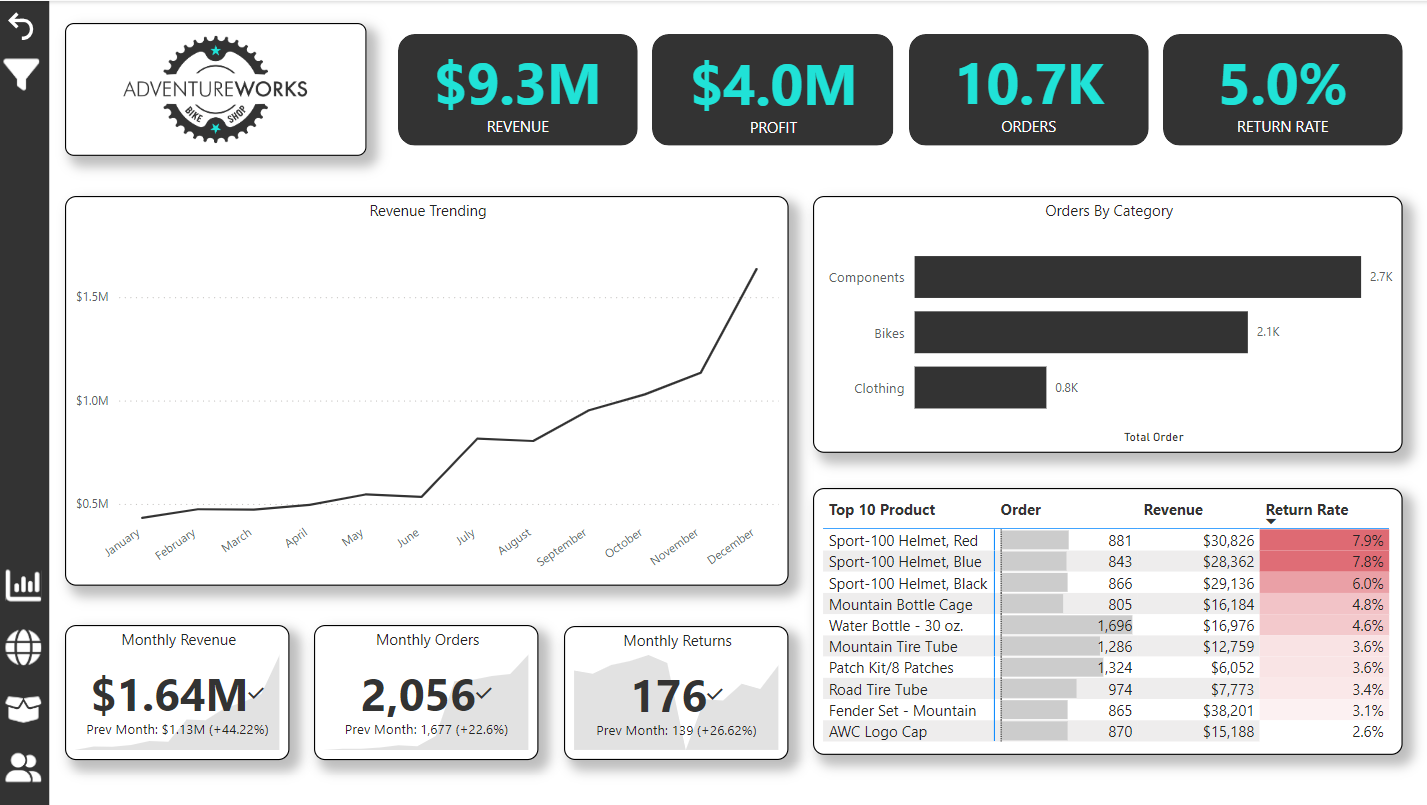

The dashboard page shown, as its layout file describes it:
{"tool":"powerbi","page":{"name":"Exec Dashboard","canvas":[1280,720],"ordinal":0},"visuals":[{"type":"image","title":"AW Logo","box":[59.1,19.7,270.4,119.1],"z":0},{"type":"group","id":"g1","title":"KPI Backgrounds","box":[357.3,29.6,900,100],"z":0,"group":"g3"},{"type":"shape","box":[357.3,29.6,214.7,100],"z":0,"group":"g1"},{"type":"card","fields":{"Values":["Measure Table.Total Revenue"]},"box":[364.6,29.6,200,99.1],"z":0,"group":"g2"},{"type":"actionButton","box":[1.7,503.3,44.8,40.3],"z":0,"group":"g4"},{"type":"shape","title":"Left Nav Background","box":[0,0,45,720],"z":1000},{"type":"group","id":"g2","title":"KPI Values","box":[364.6,29.6,885.5,100],"z":1000,"group":"g3"},{"type":"shape","box":[585.2,29.6,216.4,100],"z":1000,"group":"g1"},{"type":"card","fields":{"Values":["Measure Table.Return Rate"]},"box":[1050.1,29.6,200,99.1],"z":1000,"group":"g2"},{"type":"actionButton","box":[1.7,558.8,44.8,40.3],"z":1000,"group":"g4"},{"type":"group","id":"g3","title":"KPIs","box":[357.3,29.6,900,100.3],"z":2000},{"type":"card","fields":{"Values":["Measure Table.Total Order"]},"box":[821.9,29.6,200,99.1],"z":2000,"group":"g2"},{"type":"shape","box":[1042.6,29.6,214.7,100],"z":2000,"group":"g1"},{"type":"actionButton","box":[1.7,614.3,44.8,40.3],"z":2000,"group":"g4"},{"type":"shape","box":[814.8,29.6,214.7,100],"z":3000,"group":"g1"},{"type":"card","fields":{"Values":["Measure Table.Total profit"]},"box":[593.7,30.5,200,99.1],"z":3000,"group":"g2"},{"type":"lineChart","title":"Revenue Trending","fields":{"Y":["Measure Table.Total Revenue"],"Category":["Calendar Lookup.Year","Calendar Lookup.Start of Quarter.Variation.Date Hierarchy.Quarter","Calendar Lookup.Start of Month.Variation.Date Hierarchy.Month"]},"box":[59.1,174.6,648.4,349.3],"z":3000},{"type":"actionButton","box":[1.8,666.3,44.8,40.3],"z":3000,"group":"g4"},{"type":"kpi","title":"Monthly Revenue","fields":{"Indicator":["Measure Table.Total Revenue"],"TrendLine":["Calendar Lookup.Start of Month.Variation.Date Hierarchy.Month"],"Goal":["Measure Table.Previous Month Revenue"]},"box":[59.1,558.8,201.5,120.9],"z":4000},{"type":"kpi","title":"Monthly Orders","fields":{"TrendLine":["Calendar Lookup.Start of Month.Variation.Date Hierarchy.Month"],"Indicator":["Measure Table.Total Order"],"Goal":["Measure Table.Previous Month orders"]},"box":[282.1,558.8,201.5,120.9],"z":5000},{"type":"kpi","title":"Monthly Returns","fields":{"TrendLine":["Calendar Lookup.Start of Month.Variation.Date Hierarchy.Month"],"Indicator":["Measure Table.Total Returns"],"Goal":["Measure Table.Previous Month Returns"]},"box":[506,559.7,201.5,120],"z":6000},{"type":"barChart","title":"Orders By Category","fields":{"Category":["Product Categories Lookup.CategoryName"],"Y":["Measure Table.Total Order"]},"box":[729,174.6,528.4,230.1],"z":7000},{"type":"pivotTable","fields":{"Rows":["Product Lookup.ProductName"],"Values":["Measure Table.Total Order","Measure Table.Total Revenue","Measure Table.Return Rate"]},"box":[729,436.1,528.4,239.1],"z":8000},{"type":"actionButton","box":[3,5,38,34],"z":9000},{"type":"group","id":"g4","title":"Navigation Buttons","box":[1.7,503.3,44.9,203.3],"z":10000},{"type":"actionButton","box":[0,45.4,47.4,40.3],"z":11000}]}

Visuals, with their boxes on the page's 1280x720 design canvas (x1, y1, x2, y2). These are canvas units, not pixel positions in the 1427x805 screenshot, which may show the page scaled, cropped or inside an application window:
"AW Logo" image: <region>59, 20, 330, 139</region>
"KPI Backgrounds" group: <region>357, 30, 1257, 130</region>
shape: <region>357, 30, 572, 130</region>
card - Measure Table.Total Revenue: <region>365, 30, 565, 129</region>
actionButton: <region>2, 503, 46, 544</region>
"Left Nav Background" shape: <region>0, 0, 45, 720</region>
"KPI Values" group: <region>365, 30, 1250, 130</region>
shape: <region>585, 30, 802, 130</region>
card - Measure Table.Return Rate: <region>1050, 30, 1250, 129</region>
actionButton: <region>2, 559, 46, 599</region>
"KPIs" group: <region>357, 30, 1257, 130</region>
card - Measure Table.Total Order: <region>822, 30, 1022, 129</region>
shape: <region>1043, 30, 1257, 130</region>
actionButton: <region>2, 614, 46, 655</region>
shape: <region>815, 30, 1030, 130</region>
card - Measure Table.Total profit: <region>594, 30, 794, 130</region>
"Revenue Trending" lineChart: <region>59, 175, 708, 524</region>
actionButton: <region>2, 666, 47, 707</region>
"Monthly Revenue" kpi: <region>59, 559, 261, 680</region>
"Monthly Orders" kpi: <region>282, 559, 484, 680</region>
"Monthly Returns" kpi: <region>506, 560, 708, 680</region>
"Orders By Category" barChart: <region>729, 175, 1257, 405</region>
pivotTable - Product Lookup.ProductName x Measure Table.Total Order: <region>729, 436, 1257, 675</region>
actionButton: <region>3, 5, 41, 39</region>
"Navigation Buttons" group: <region>2, 503, 47, 707</region>
actionButton: <region>0, 45, 47, 86</region>
